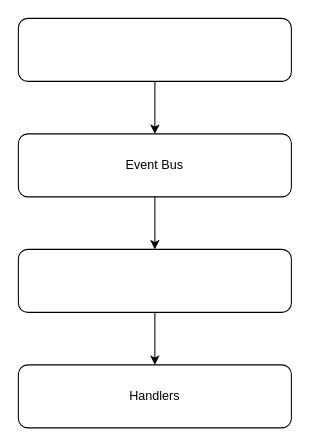
The diagram is 310 pixels wide and 446 high, and some of its shapes have lost their labels. The shapes that lost their labels are listed below. From the top down, each one's box as (x1, y1, x2, y2) in pixels, then its label:
(17, 17, 291, 81): Publisher
(17, 248, 291, 312): Subscribers
